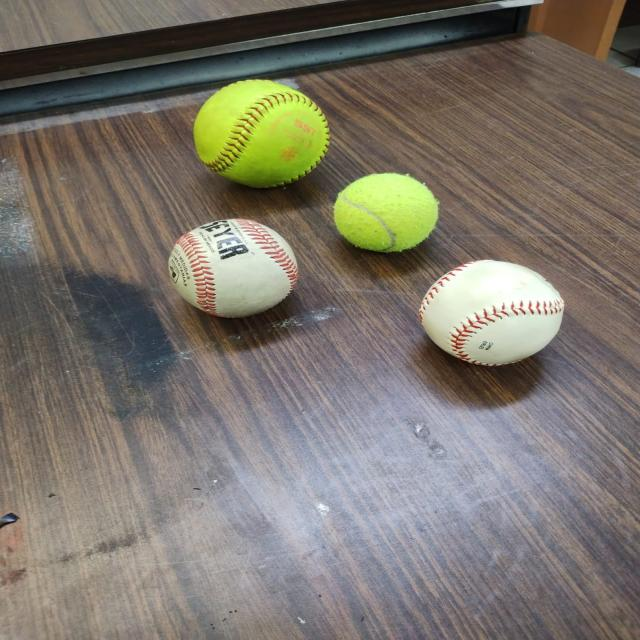beisbol ball: (409, 252, 567, 368), (167, 219, 298, 317)
softball ball: (191, 80, 330, 187)
tenis ball: (331, 172, 440, 252)
